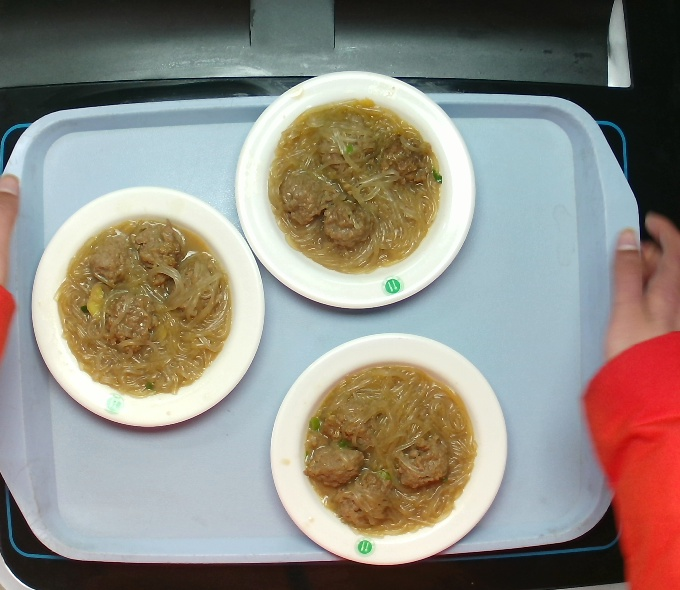wcq-FenSiNiuRouWan: (295, 351, 489, 546), (48, 214, 245, 398), (263, 95, 443, 272)
